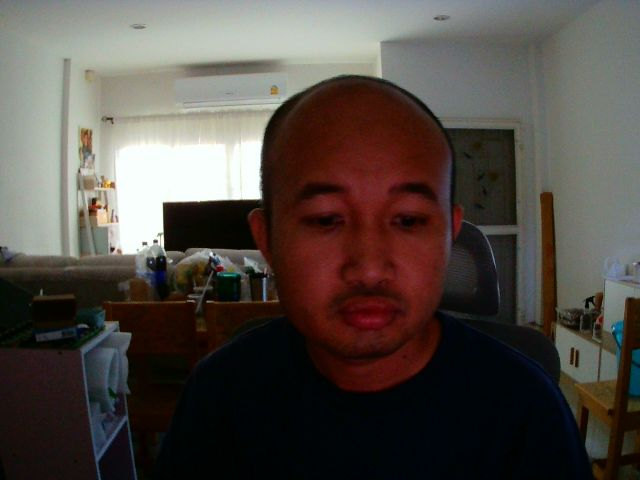face: (254, 72, 450, 360)
